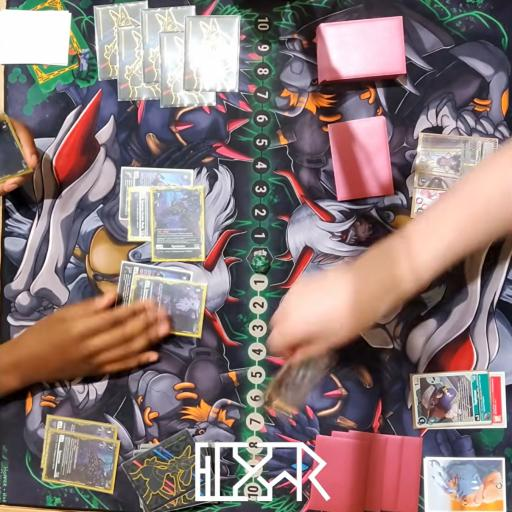card: (44, 430, 120, 493), (133, 278, 207, 340), (411, 370, 489, 428), (119, 167, 197, 224), (414, 129, 499, 179), (151, 186, 205, 262), (116, 262, 192, 314), (46, 413, 118, 442), (411, 186, 459, 226), (413, 169, 473, 200), (129, 188, 155, 242), (490, 372, 508, 432)
